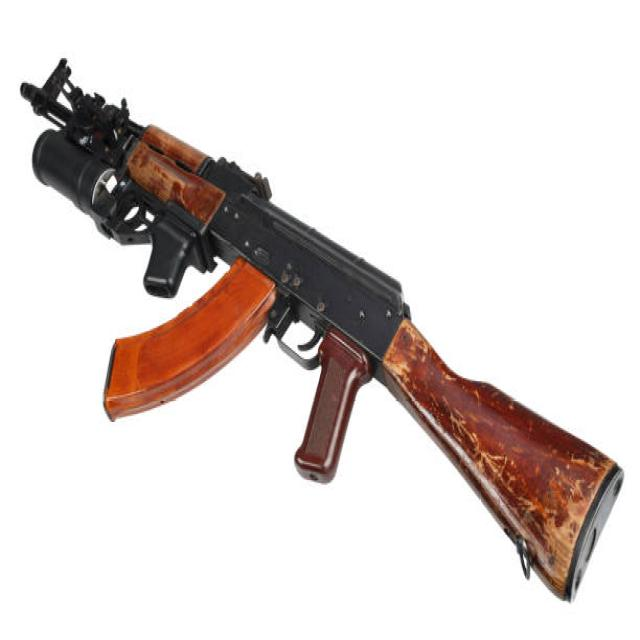rifle: (11, 45, 633, 623)
